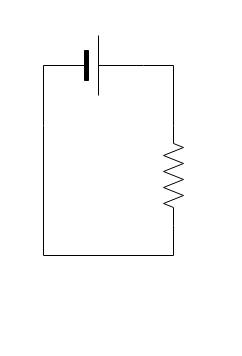resistor: (149, 128, 194, 224)
